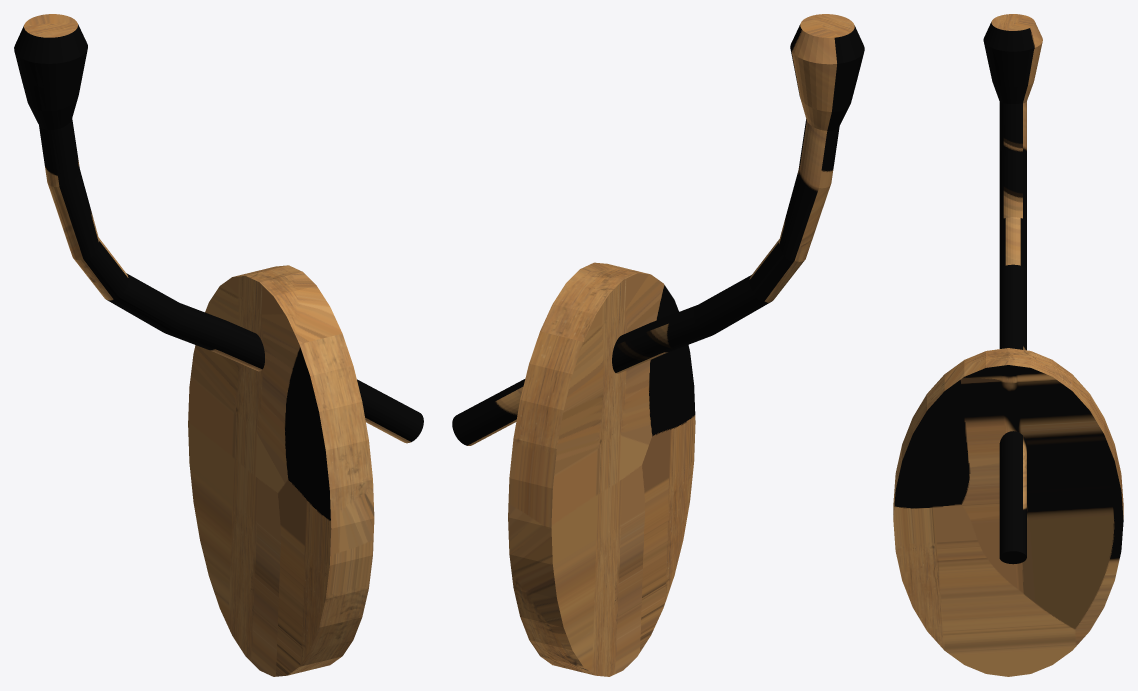
Rendered from wieszak pojedynczy.obj.
The picture shows the model from 3 angles, left to right: view 1: azimuth 30°, elevation 25°; view 2: azimuth 150°, elevation 25°; view 3: azimuth 270°, elevation 25°; orthographic projection. The views are drawn at different scales.
Visible parts, largest first — view 1: Cylinder.021; view 2: Cylinder.021; view 3: Cylinder.021.
Boxes of the visible parts, left/top/right/bottom form: Cylinder.021: left=14, top=14, right=423, bottom=676; Cylinder.021: left=452, top=14, right=864, bottom=676; Cylinder.021: left=893, top=14, right=1123, bottom=676.
Bounding box in the file's own units: 0.0992 × 0.1637 × 0.0612.
Materials: 1 (1 with a texture image).
